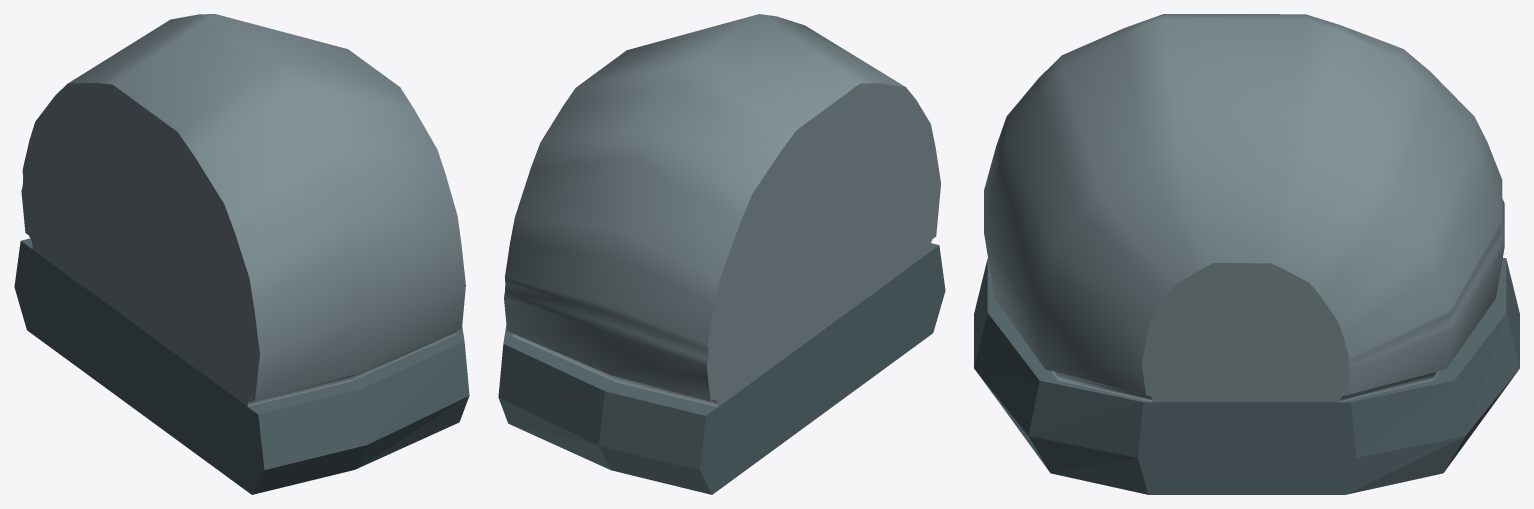
File: city_shore_edges_04_rock_end.glb
The picture shows the model from 3 angles, left to right: view 1: azimuth 30°, elevation 25°; view 2: azimuth 150°, elevation 25°; view 3: azimuth 270°, elevation 25°; orthographic projection. The views are drawn at different scales.
Parts seen in each view (by area): view 1: CityShoreEdges04_rock_end_Mesh; view 2: CityShoreEdges04_rock_end_Mesh; view 3: CityShoreEdges04_rock_end_Mesh.
Part boxes in pixels (<box>): CityShoreEdges04_rock_end_Mesh: <box>14,14,469,494</box>; CityShoreEdges04_rock_end_Mesh: <box>498,14,945,494</box>; CityShoreEdges04_rock_end_Mesh: <box>974,14,1519,494</box>.
Bounding box in the file's own units: 1 × 1.25 × 1.6.
